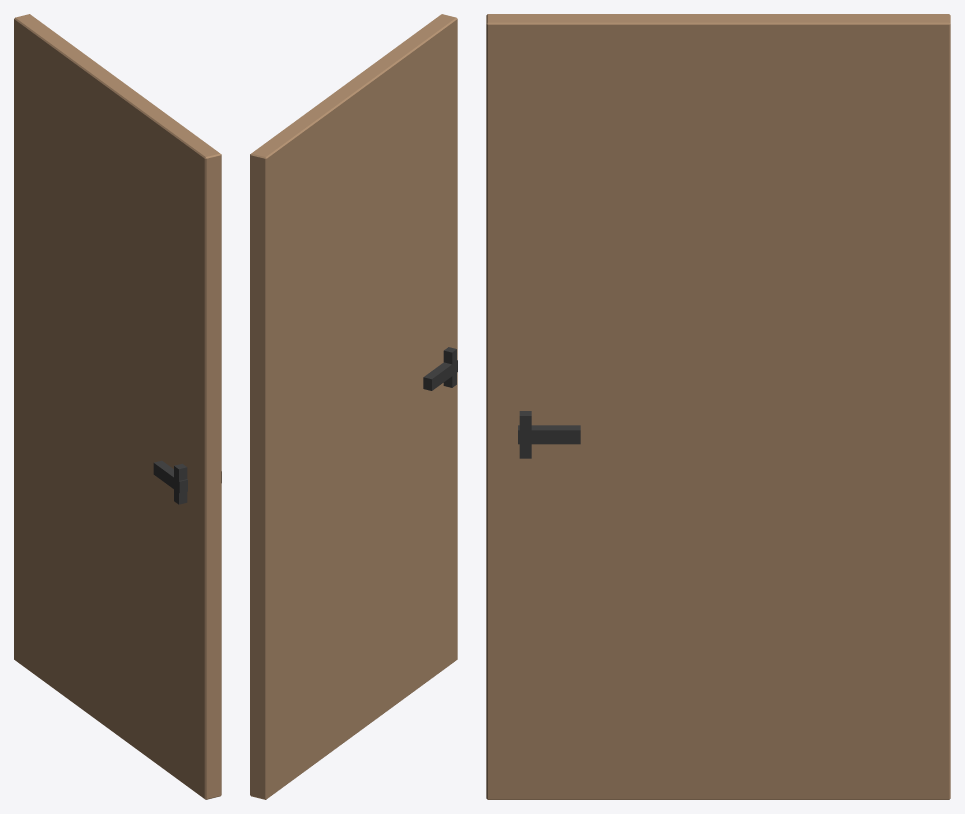
File: door_leaf.glb
The picture shows the model from 3 angles, left to right: view 1: azimuth 30°, elevation 25°; view 2: azimuth 150°, elevation 25°; view 3: azimuth 270°, elevation 25°; orthographic projection. The views are drawn at different scales.
Parts seen in each view (by area): view 1: Door_M_Door, Door_M_Metal; view 2: Door_M_Door, Door_M_Metal; view 3: Door_M_Door, Door_M_Metal.
Part boxes in pixels (x1,y1,x2,y2): Door_M_Door: [14, 14, 221, 799]; Door_M_Metal: [153, 460, 221, 504]; Door_M_Door: [250, 14, 457, 799]; Door_M_Metal: [423, 347, 457, 390]; Door_M_Door: [486, 14, 950, 799]; Door_M_Metal: [518, 411, 580, 458].
Bounding box in the file's own units: 0.15 × 2.18 × 1.18.
